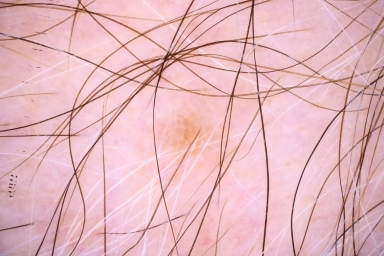nevus: (166, 109, 206, 152)
